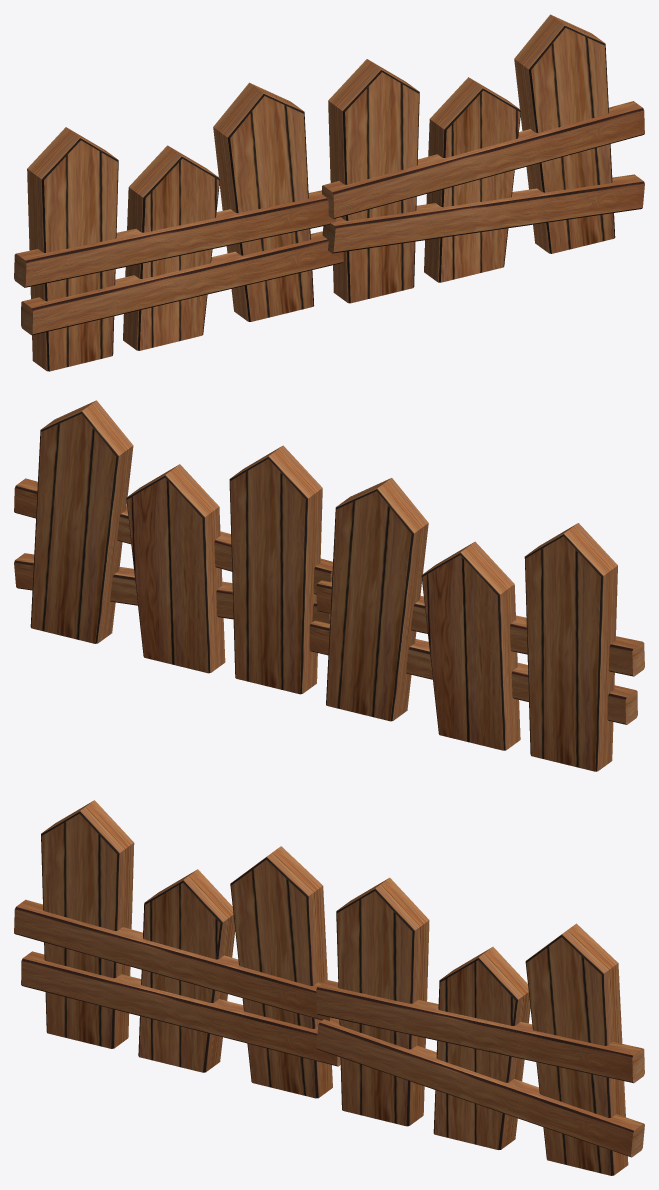
File: Valla.fbx
3 renders of one model, top to bottom at view 1: azimuth 30°, elevation 25°; view 2: azimuth 150°, elevation 25°; view 3: azimuth 330°, elevation 25°, orthographic.
Parts seen in each view (by area): view 1: Cube.001; view 2: Cube.001; view 3: Cube.001.
Part boxes in pixels (x1,y1,x2,y2): Cube.001: (14,14,644,371); Cube.001: (14,400,644,771); Cube.001: (14,800,644,1175).
Bounding box in the file's own units: 298 × 105 × 21.9.
Materials: 1 (1 with a texture image).
